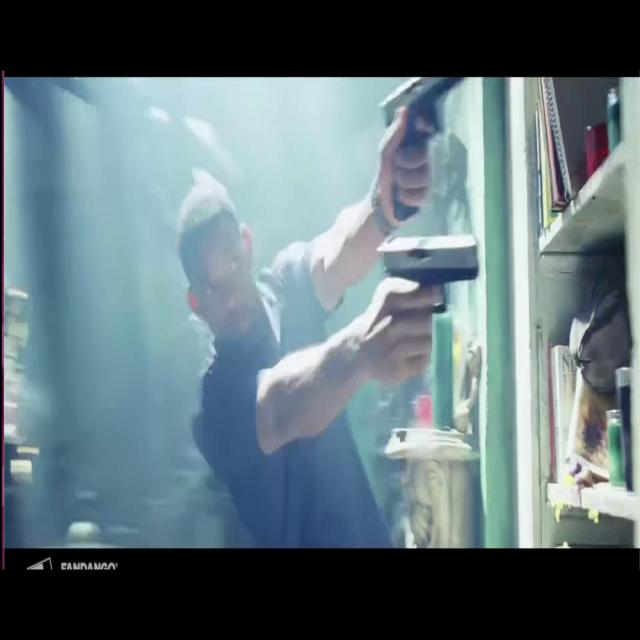weapons: (363, 218, 496, 361), (373, 77, 479, 183)
